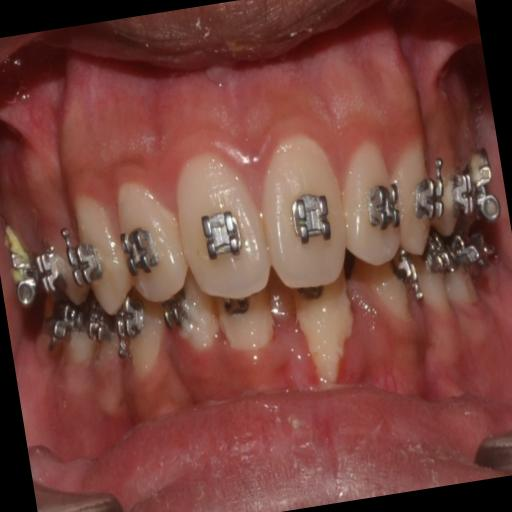correct_brace: (288, 172, 336, 253), (190, 199, 244, 266), (113, 212, 166, 276), (358, 171, 404, 242)
incorrect_brace: (106, 164, 188, 312), (328, 128, 409, 270)
